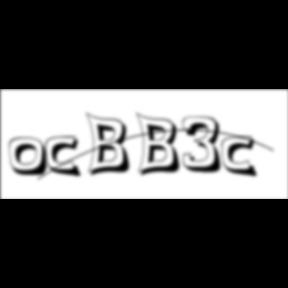3: (182, 116, 228, 176)
B: (86, 111, 136, 179), (136, 111, 186, 179)
c: (46, 136, 86, 180), (222, 136, 262, 180)
o: (9, 137, 51, 179)
